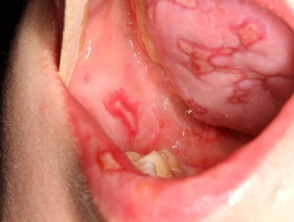SJS-TEN: (167, 6, 292, 130), (96, 79, 166, 153), (92, 146, 132, 181), (181, 93, 213, 118)
